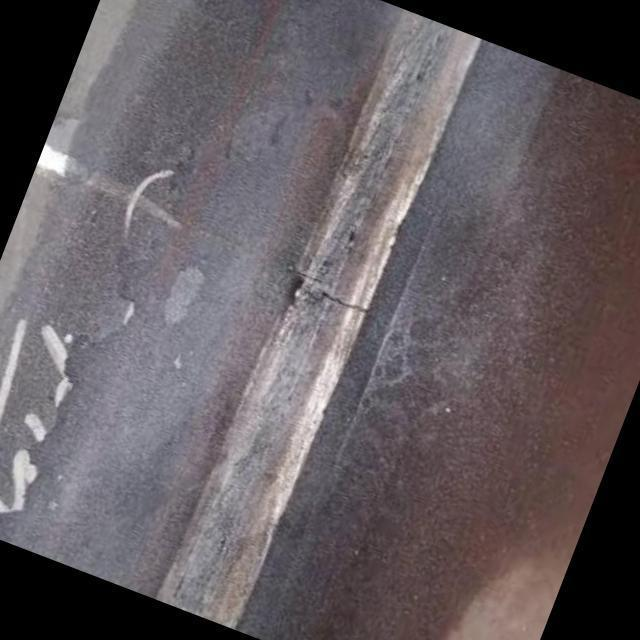defect: (318, 289, 371, 320)
